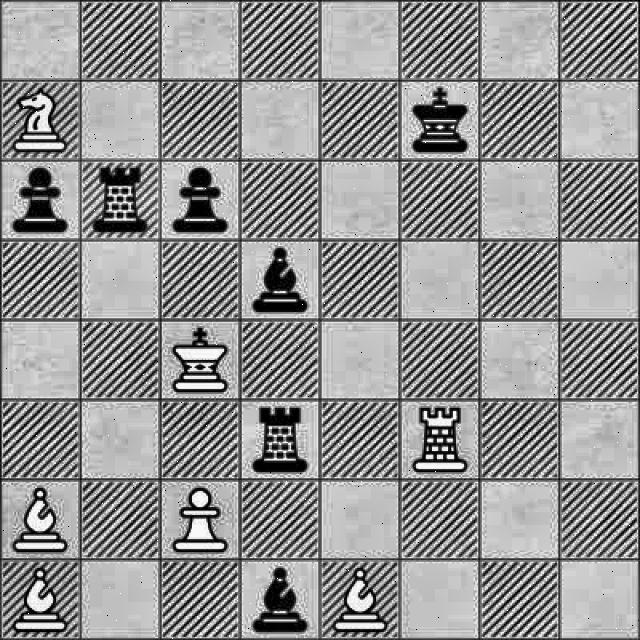black bishop: (250, 558, 312, 640), (255, 238, 313, 316)
black king: (402, 82, 474, 154)
black pawn: (10, 160, 74, 238), (176, 162, 229, 235)
black rook: (245, 404, 312, 474), (90, 162, 152, 236)
white bishop: (2, 474, 74, 556), (332, 562, 394, 640), (6, 562, 68, 635)
white king: (164, 321, 232, 391)
white pawn: (170, 481, 232, 558)
white rook: (411, 398, 473, 476)
whiteknight: (17, 85, 71, 154)
